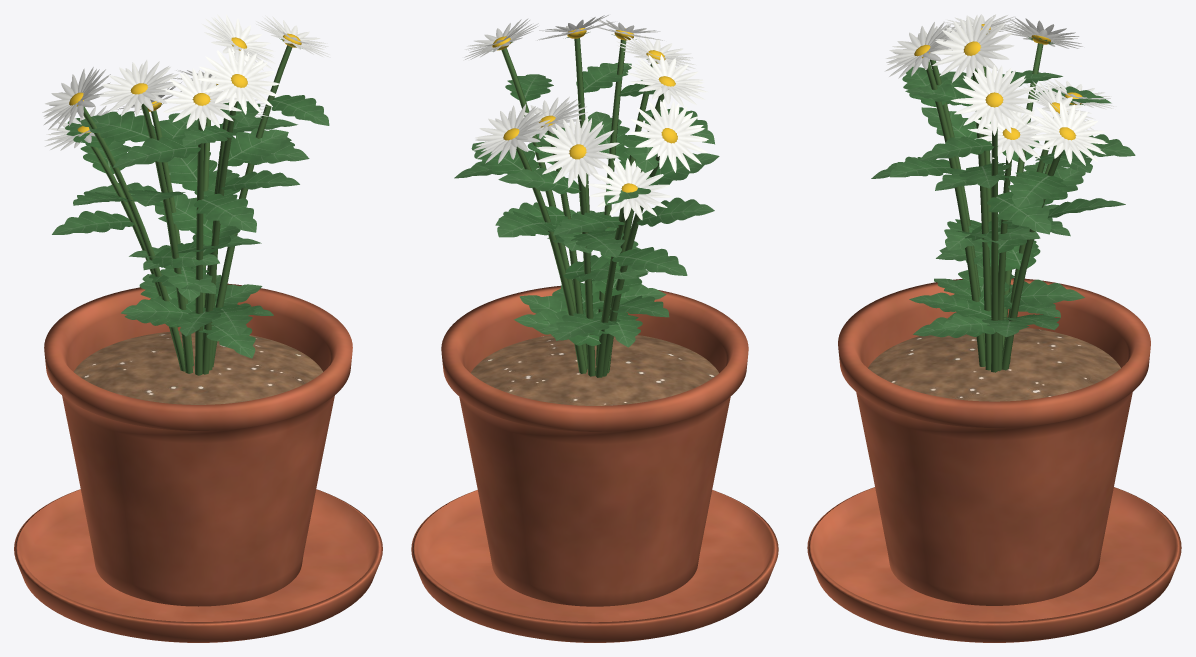
File: chrysanthemum.glb
3 renders of one model, left to right at view 1: azimuth 30°, elevation 25°; view 2: azimuth 150°, elevation 25°; view 3: azimuth 270°, elevation 25°, orthographic.
Visible parts, largest first — view 1: piece-0, piece-1, piece-2, piece-73, piece-21, piece-35, piece-56, piece-70, piece-54, piece-42, piece-55, piece-34 (+21 smaller); view 2: piece-0, piece-1, piece-2, piece-73, piece-49, piece-70, piece-14, piece-28, piece-35, piece-12, piece-68, piece-48 (+20 smaller); view 3: piece-0, piece-1, piece-2, piece-73, piece-7, piece-42, piece-28, piece-21, piece-63, piece-5, piece-27, piece-31 (+20 smaller).
Boxes of the visible parts, x1=… form: piece-0: x1=44, y1=283, x2=352, y2=606; piece-1: x1=14, y1=489, x2=382, y2=642; piece-2: x1=74, y1=331, x2=322, y2=404; piece-73: x1=83, y1=45, x2=292, y2=375; piece-21: x1=198, y1=47, x2=279, y2=114; piece-35: x1=98, y1=60, x2=180, y2=116; piece-56: x1=158, y1=68, x2=241, y2=130; piece-70: x1=42, y1=67, x2=110, y2=130; piece-54: x1=194, y1=193, x2=256, y2=232; piece-42: x1=202, y1=14, x2=275, y2=70; piece-55: x1=113, y1=136, x2=200, y2=167; piece-34: x1=80, y1=111, x2=154, y2=142; piece-0: x1=441, y1=285, x2=748, y2=606; piece-1: x1=411, y1=490, x2=778, y2=642; piece-2: x1=471, y1=335, x2=718, y2=405; piece-73: x1=501, y1=38, x2=664, y2=377; piece-49: x1=536, y1=116, x2=619, y2=187; piece-70: x1=630, y1=99, x2=708, y2=172; piece-14: x1=587, y1=158, x2=672, y2=220; piece-28: x1=473, y1=104, x2=550, y2=163; piece-35: x1=626, y1=54, x2=707, y2=106; piece-12: x1=612, y1=247, x2=687, y2=275; piece-68: x1=637, y1=197, x2=714, y2=226; piece-48: x1=498, y1=167, x2=580, y2=194; piece-0: x1=838, y1=278, x2=1150, y2=605; piece-1: x1=807, y1=487, x2=1181, y2=642; piece-2: x1=868, y1=327, x2=1120, y2=401; piece-73: x1=926, y1=43, x2=1073, y2=372; piece-7: x1=951, y1=65, x2=1037, y2=135; piece-42: x1=931, y1=14, x2=1014, y2=82; piece-28: x1=1026, y1=101, x2=1107, y2=165; piece-21: x1=884, y1=21, x2=954, y2=78; piece-63: x1=968, y1=104, x2=1050, y2=163; piece-5: x1=987, y1=191, x2=1051, y2=234; piece-27: x1=1008, y1=171, x2=1066, y2=208; piece-31: x1=1004, y1=279, x2=1084, y2=307.
Bounding box in the file's own units: 0.196 × 0.3241 × 0.196.
7 materials, 5 textured.
